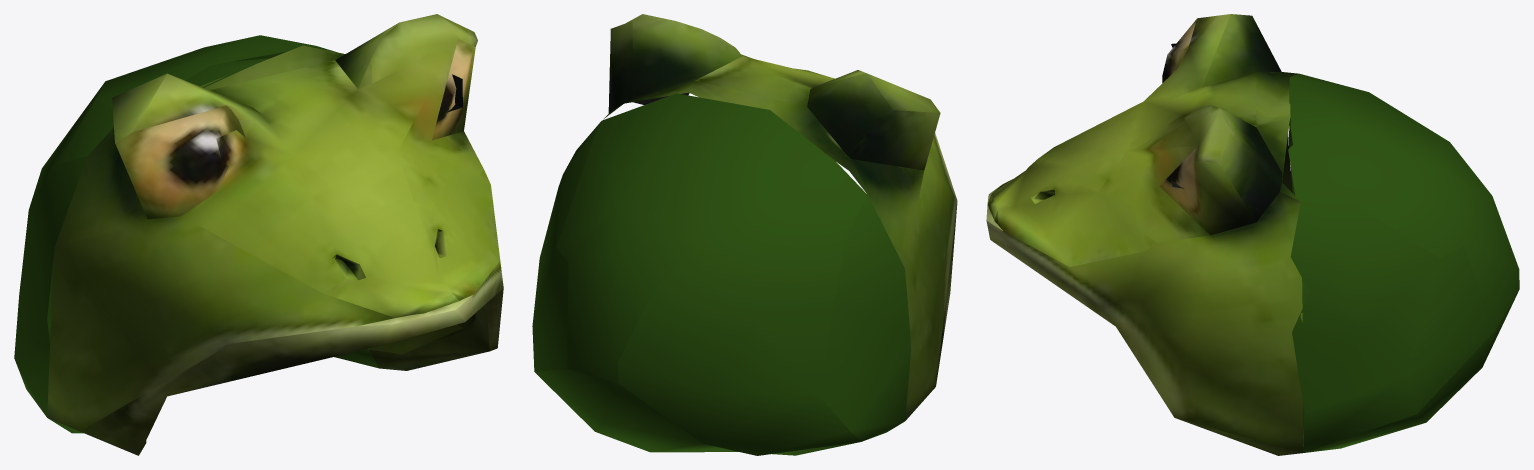
Rendered from frog.glb.
3 renders of one model, left to right at view 1: azimuth 30°, elevation 25°; view 2: azimuth 150°, elevation 25°; view 3: azimuth 270°, elevation 25°, orthographic. The views are drawn at different scales.
Visible parts, largest first — view 1: geometry_0; view 2: geometry_0; view 3: geometry_0.
Part boxes in pixels (x1=…): geometry_0: x1=14, y1=14, x2=503, y2=455; geometry_0: x1=532, y1=14, x2=957, y2=455; geometry_0: x1=986, y1=14, x2=1519, y2=455.
Size of the model in its own units: 0.495 by 0.4528 by 0.658.
2 materials, 1 textured.
